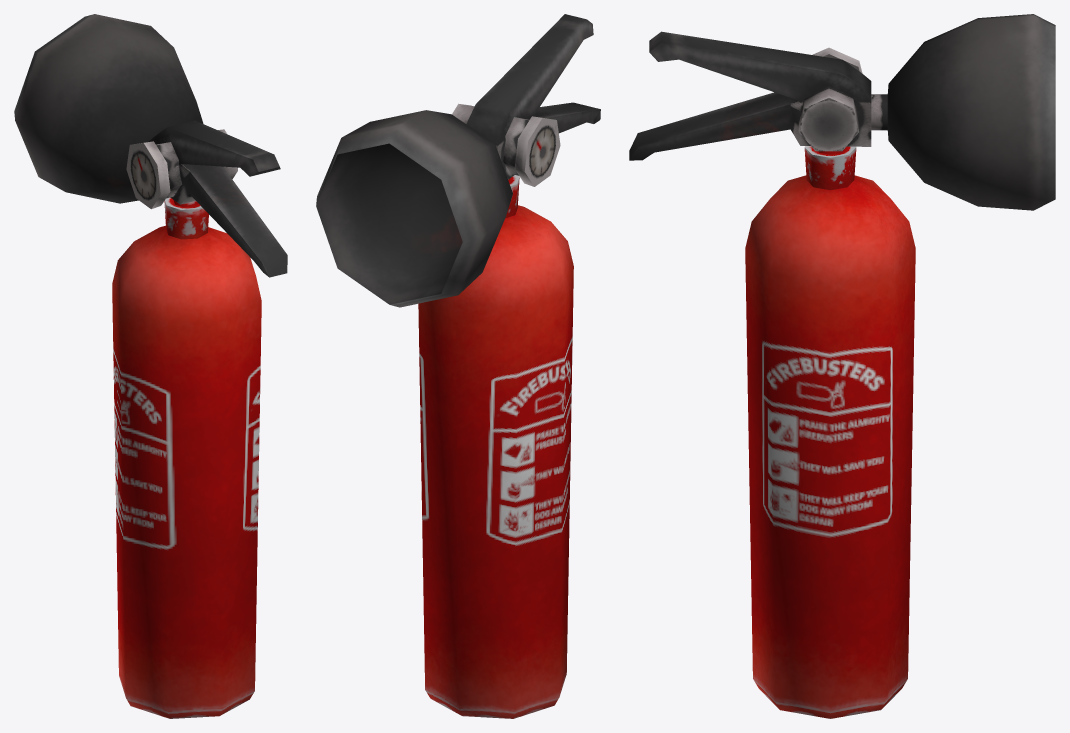
Rendered from extincteur_uv_tris.fbx.
The picture shows the model from 3 angles, left to right: view 1: azimuth 30°, elevation 25°; view 2: azimuth 150°, elevation 25°; view 3: azimuth 270°, elevation 25°; orthographic projection. The views are drawn at different scales.
Parts seen in each view (by area): view 1: Cylindre; view 2: Cylindre; view 3: Cylindre.
Boxes of the visible parts, x1=… form: Cylindre: x1=14, y1=14, x2=287, y2=718; Cylindre: x1=316, y1=14, x2=600, y2=718; Cylindre: x1=629, y1=14, x2=1055, y2=718.
Bounding box in the file's own units: 10.24 × 37.55 × 21.58.
Materials: 1 (1 with a texture image).
